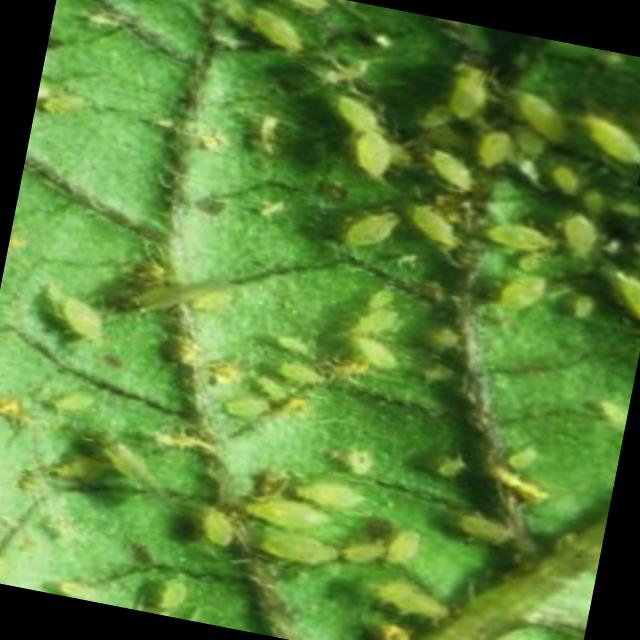Green peach aphid: (27, 260, 122, 348), (256, 516, 342, 590), (230, 0, 318, 64), (335, 185, 410, 259), (372, 569, 462, 628), (478, 205, 556, 272), (580, 97, 640, 177), (184, 482, 244, 554), (518, 76, 583, 142), (501, 261, 565, 327), (38, 368, 107, 429), (222, 370, 288, 432), (326, 78, 388, 140), (338, 120, 401, 179), (378, 513, 430, 583), (441, 56, 492, 125), (350, 330, 403, 378)
